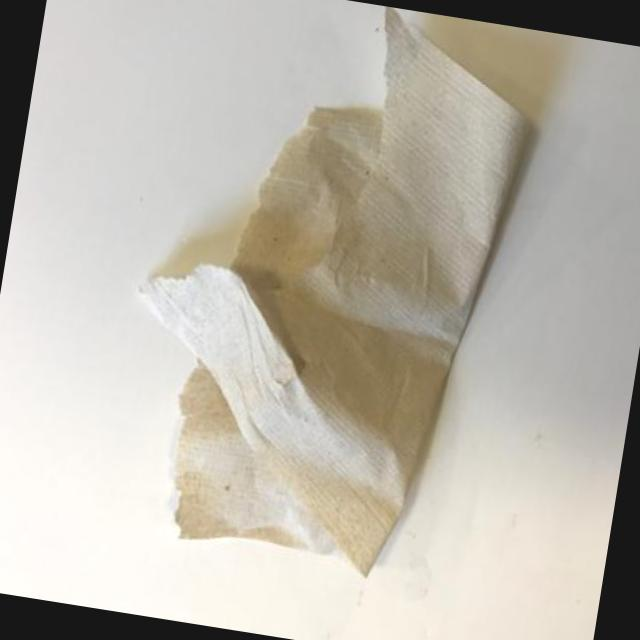giay: (140, 8, 528, 577)
